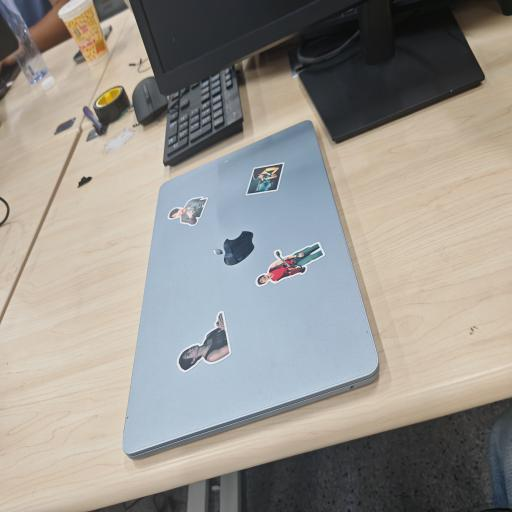laptop: (123, 121, 378, 458)
mouse: (132, 76, 168, 126)
